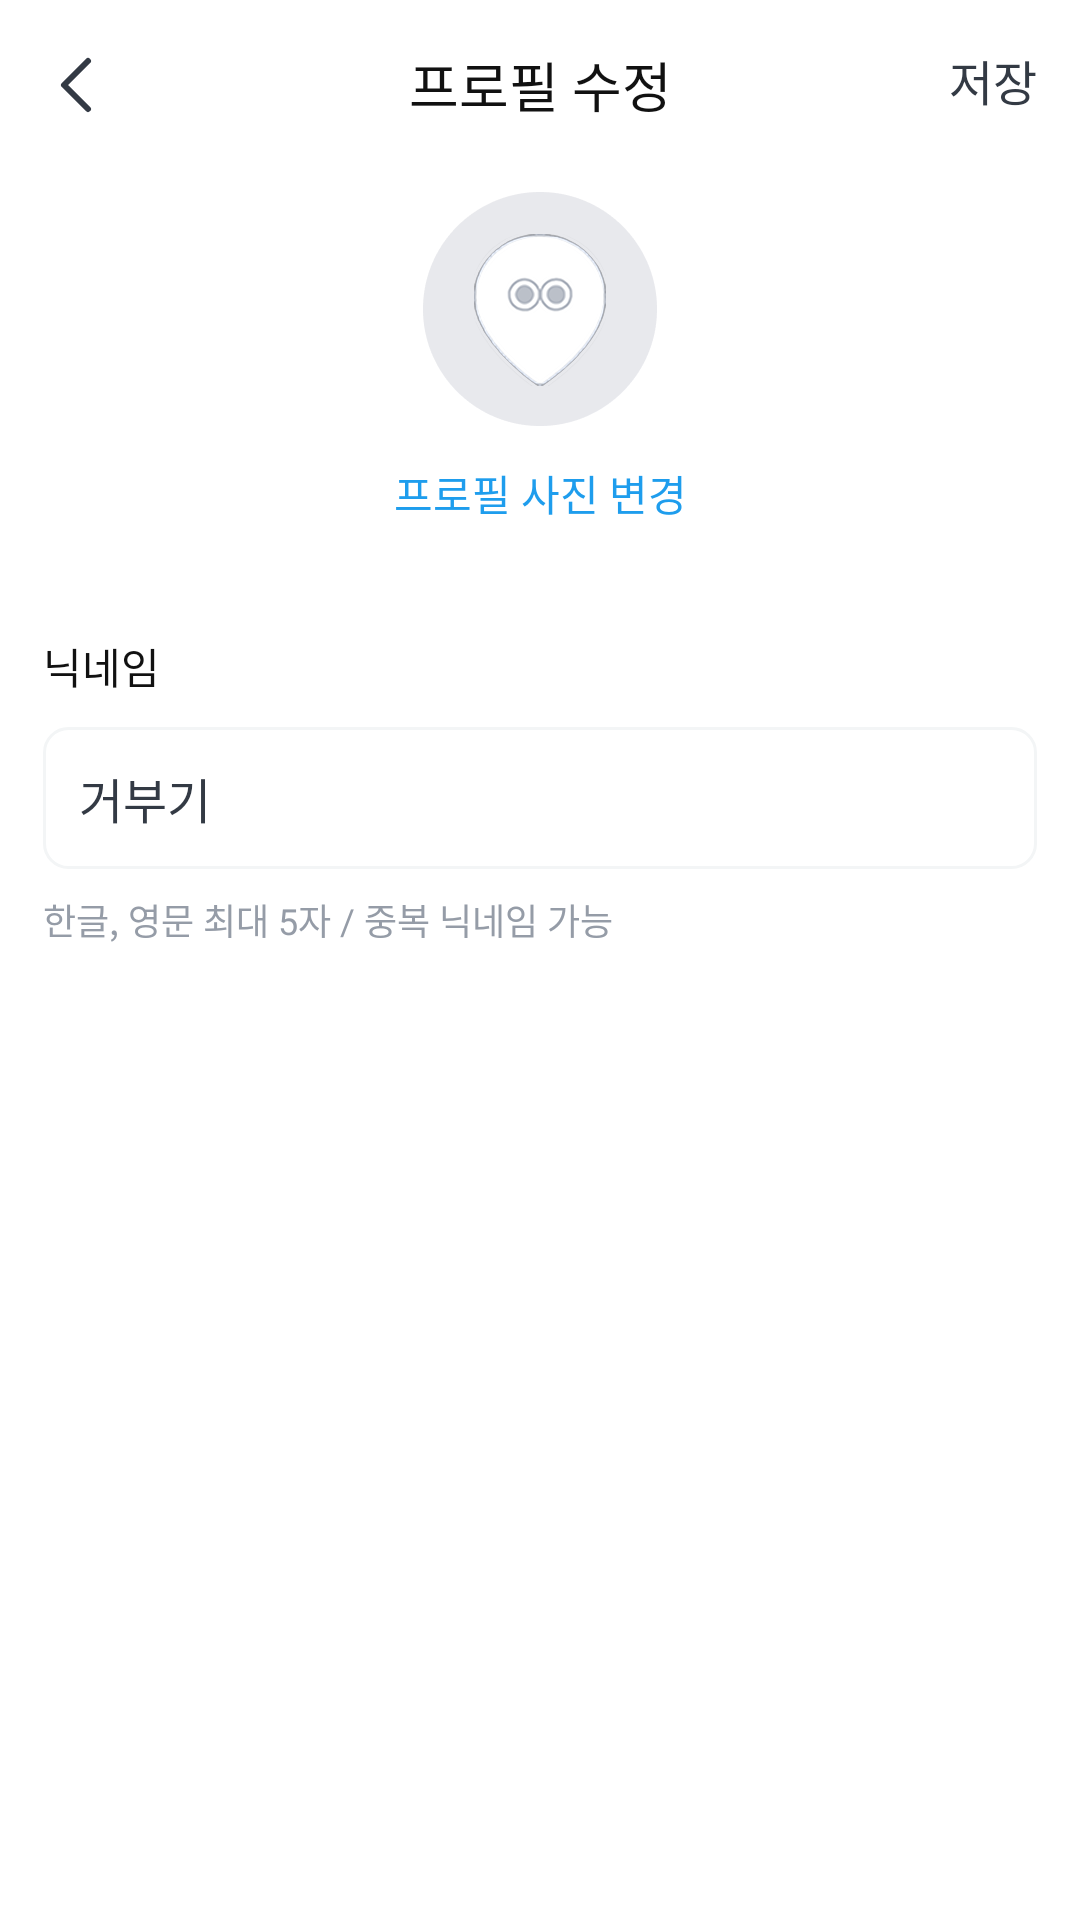

Named icons in this screenshot (1080x1920) and their centers, point (x, y):
back: point (76, 84)
profile: point (540, 310)
